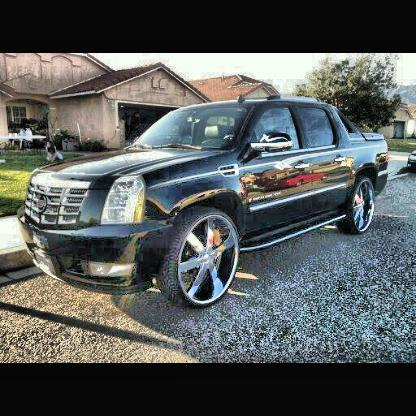Cadillac Escalade EXT Crew Cab 2007: (18, 93, 393, 309)
